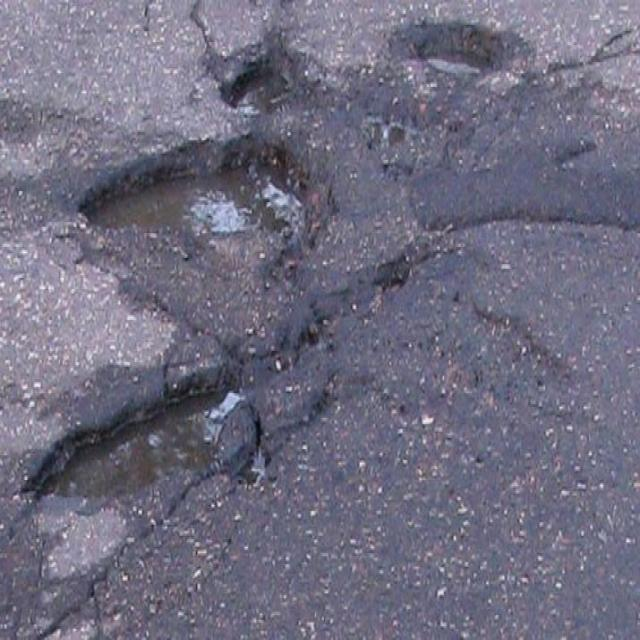pothole: (21, 362, 268, 516), (76, 129, 312, 258)
